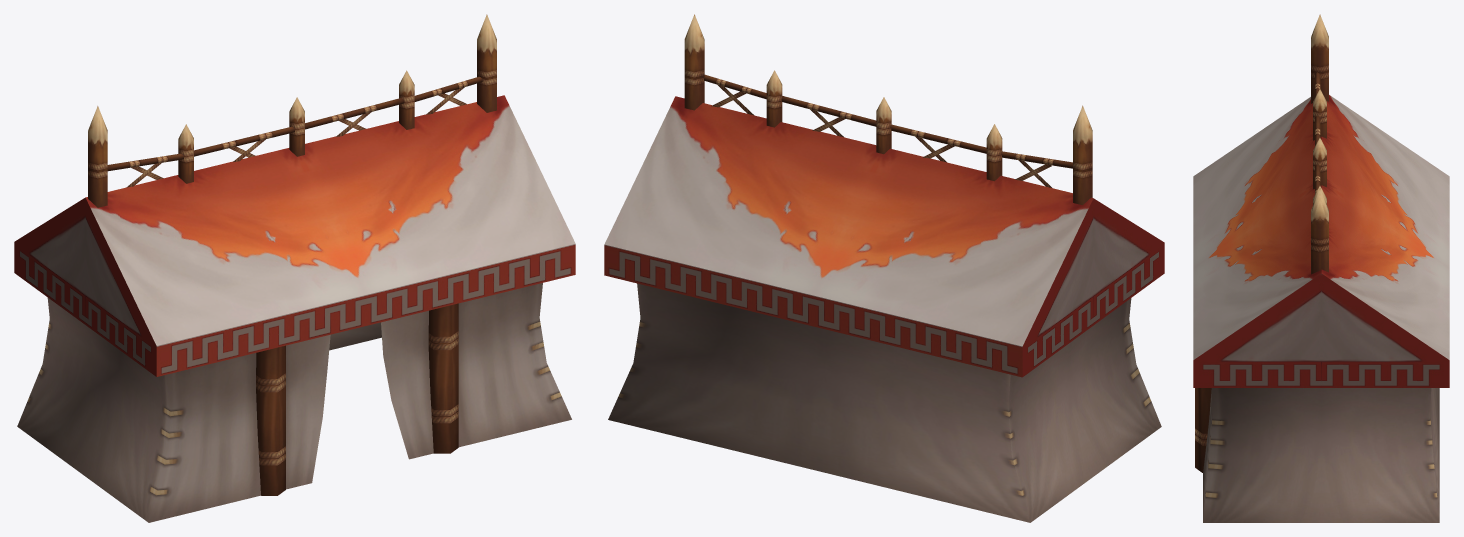
The model's file is Stage_ShaMo_JunZhang01.FBX.
3 renders of one model, left to right at view 1: azimuth 30°, elevation 25°; view 2: azimuth 150°, elevation 25°; view 3: azimuth 270°, elevation 25°, orthographic. The views are drawn at different scales.
Visible parts, largest first — view 1: Stage_ShaMo_JunZhang01; view 2: Stage_ShaMo_JunZhang01; view 3: Stage_ShaMo_JunZhang01.
Boxes of the visible parts, x1,y1,x2,y2 form: Stage_ShaMo_JunZhang01: [14, 14, 575, 522]; Stage_ShaMo_JunZhang01: [604, 14, 1164, 522]; Stage_ShaMo_JunZhang01: [1193, 14, 1449, 522].
Size of the model in its own units: 703 by 581 by 410.
